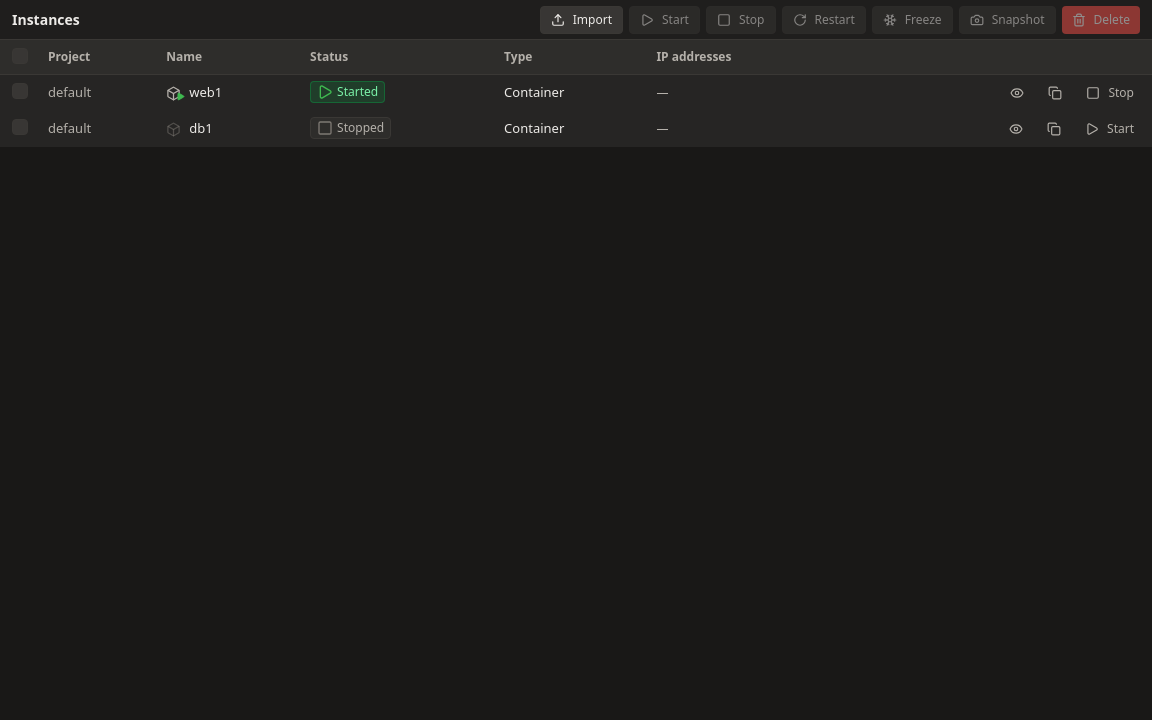
Test: InstancesPage › opens the copy dialog from the row action
The width and height of the screenshot is (1152, 720).
Expected: the text "web1" is shown, [166,83,222,101]
What coordinates should you click on to do the following:
click the button with test id "row-copy-web1"
I would click on:
 (1055, 93)
Its box is [1038,79,1072,107].
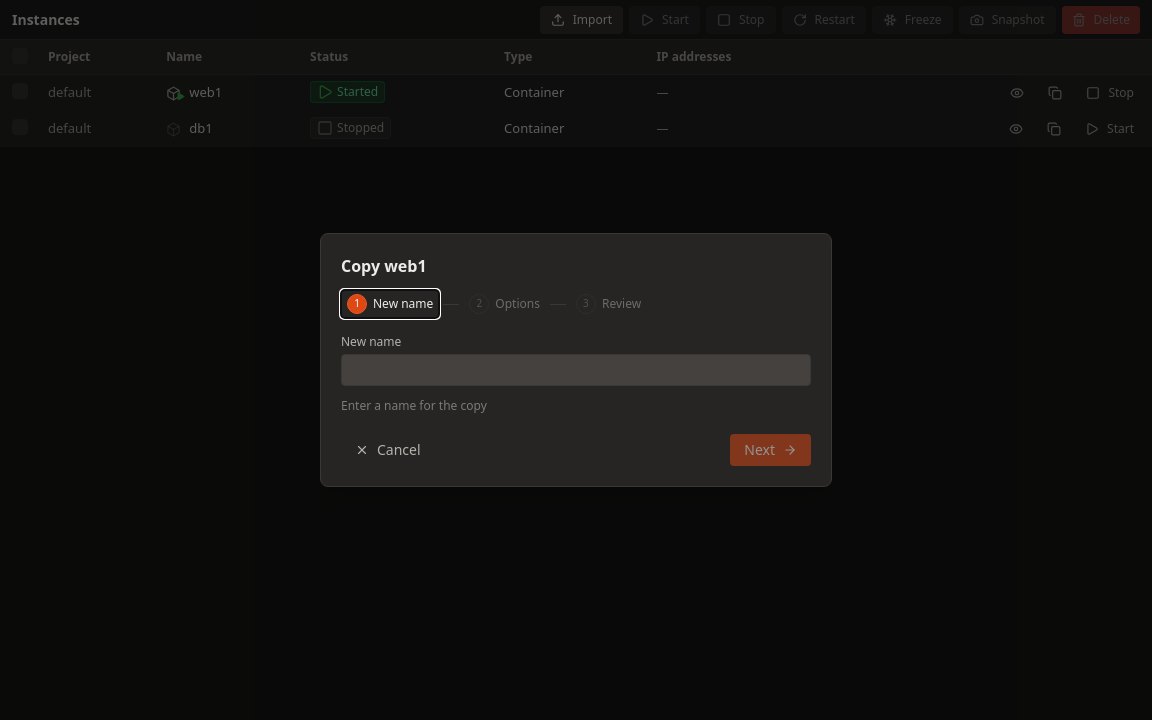
Expected: the dialog is shown
Expected: the heading "Copy web1" is shown, [341,255,427,277]
